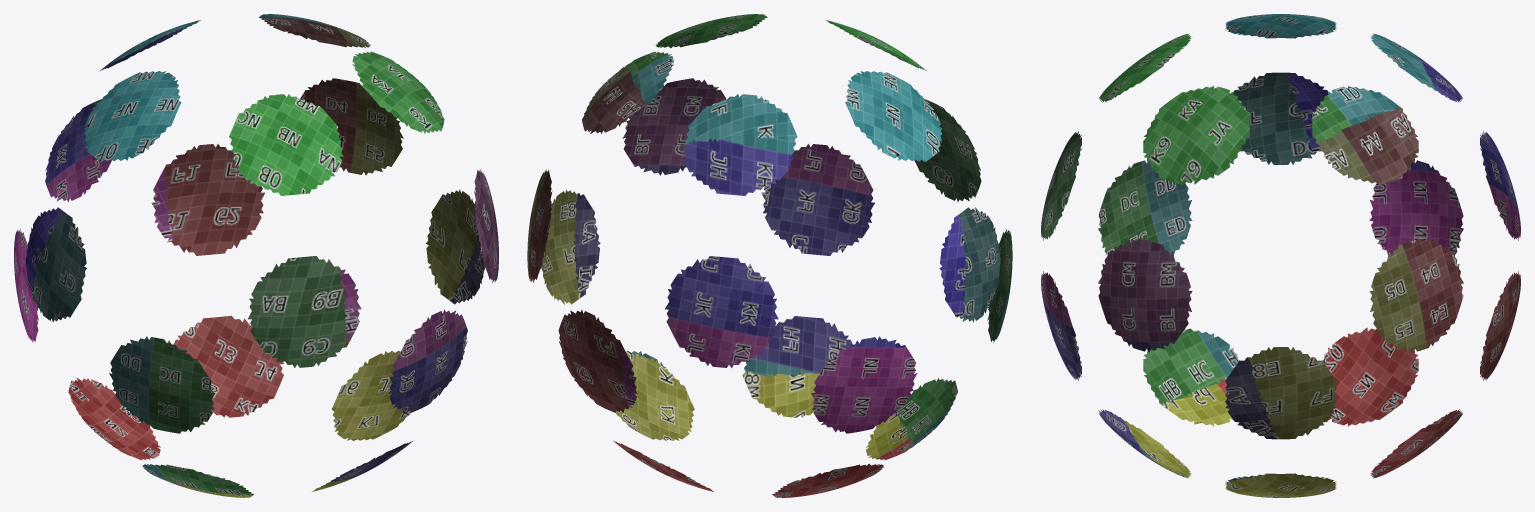
Rendered from jy_lm_colossus_hq.glb.
The picture shows the model from 3 angles, left to right: view 1: azimuth 30°, elevation 25°; view 2: azimuth 150°, elevation 25°; view 3: azimuth 270°, elevation 25°; orthographic projection.
Visible parts, largest first — view 1: Icosphere; view 2: Icosphere; view 3: Icosphere.
Boxes of the visible parts, box(x1,y1,x2,y2) form: Icosphere: box(14, 14, 498, 497); Icosphere: box(527, 14, 1012, 497); Icosphere: box(1041, 14, 1520, 497).
Bounding box in the file's own units: 6 × 5.5 × 5.95.
1 material, 1 textured.
